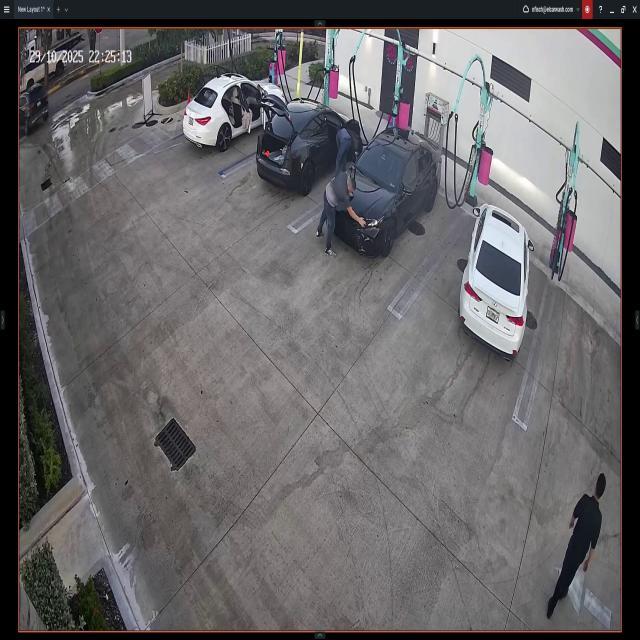Car: (328, 128, 440, 251), (459, 202, 531, 364), (255, 100, 358, 190), (190, 75, 285, 164), (20, 85, 48, 141)
